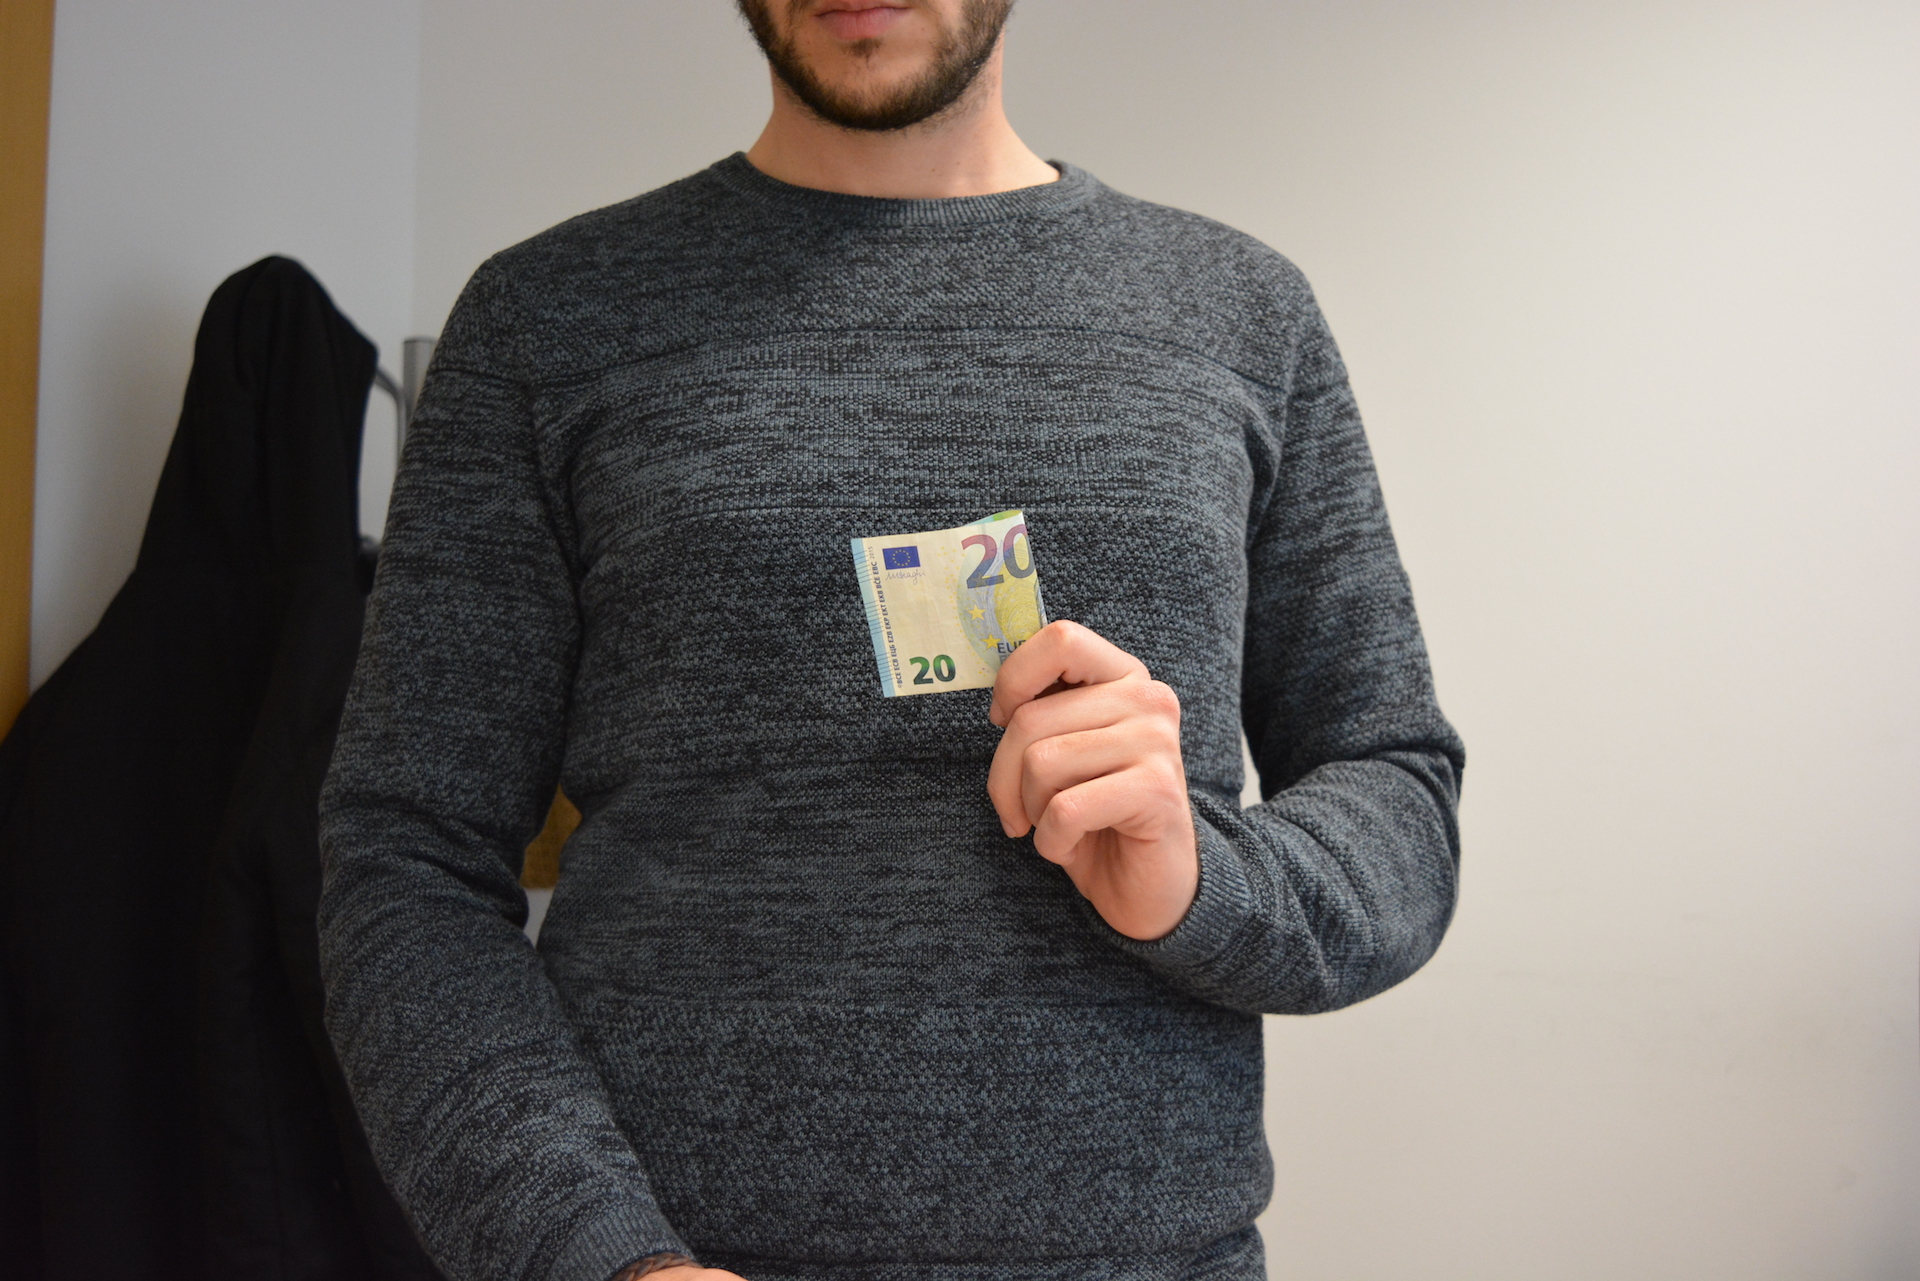billete: (849, 508, 1051, 699)
